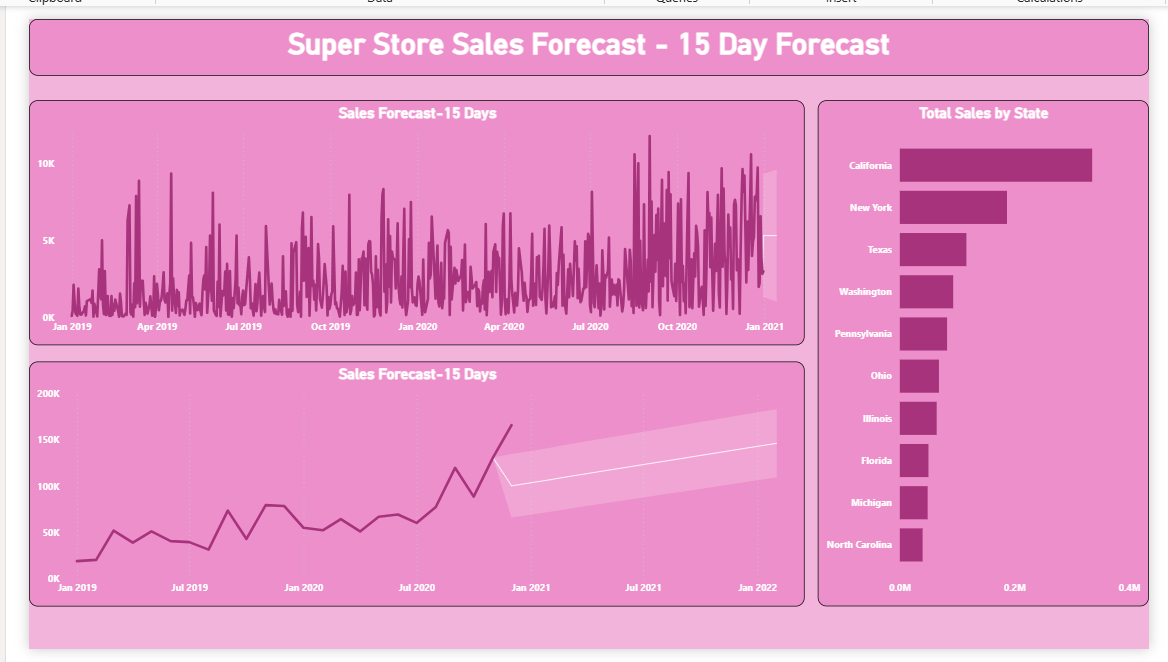

The dashboard page shown, as its layout file describes it:
{"tool":"powerbi","page":{"name":"Sales Forecast","canvas":[1280,720],"ordinal":1},"visuals":[{"type":"lineChart","title":"Sales Forecast-15 Days","fields":{"Y":["Sum(SuperStore_Sales_Dataset (2).Sales)"],"Category":["SuperStore_Sales_Dataset (2).Order Date.Variation.Date Hierarchy.Year","SuperStore_Sales_Dataset (2).Order Date.Variation.Date Hierarchy.Month","SuperStore_Sales_Dataset (2).Order Date.Variation.Date Hierarchy.Day"]},"box":[0,93.3,886.7,280],"z":0},{"type":"lineChart","title":"Sales Forecast-15 Days","fields":{"Y":["Sum(SuperStore_Sales_Dataset (2).Sales)"],"Category":["SuperStore_Sales_Dataset (2).Order Date.Variation.Date Hierarchy.Year","SuperStore_Sales_Dataset (2).Order Date.Variation.Date Hierarchy.Month"]},"box":[0,391.7,886.7,280],"z":1},{"type":"textbox","box":[0,0,1280,65],"z":3},{"type":"clusteredBarChart","title":"Total Sales by State","fields":{"Category":["SuperStore_Sales_Dataset (2).State"],"Y":["Sum(SuperStore_Sales_Dataset (2).Sales)"]},"box":[901.7,93.3,378.3,578.3],"z":4}]}

Visuals, with their boxes on the page's 1280x720 design canvas (x1, y1, x2, y2). These are canvas units, not pixel positions in the 1168x662 screenshot, which may show the page scaled, cropped or inside an application window:
"Sales Forecast-15 Days" lineChart: box=[0, 93, 887, 373]
"Sales Forecast-15 Days" lineChart: box=[0, 392, 887, 672]
textbox: box=[0, 0, 1280, 65]
"Total Sales by State" clusteredBarChart: box=[902, 93, 1280, 672]
